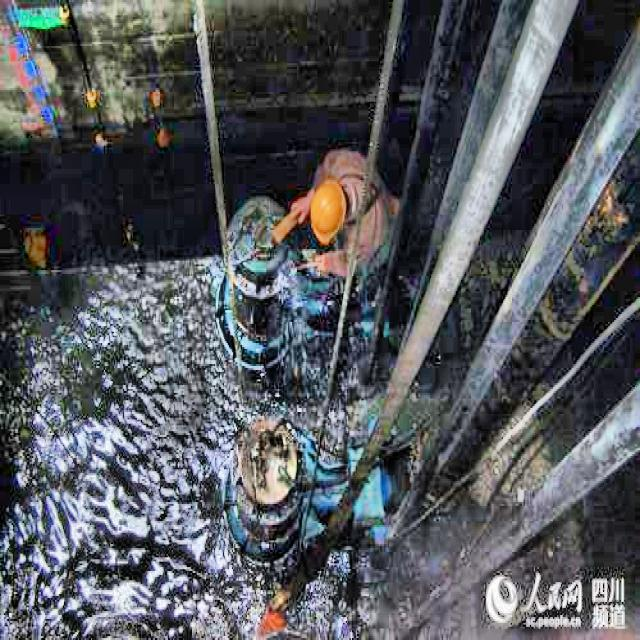helmet: (304, 178, 354, 245)
